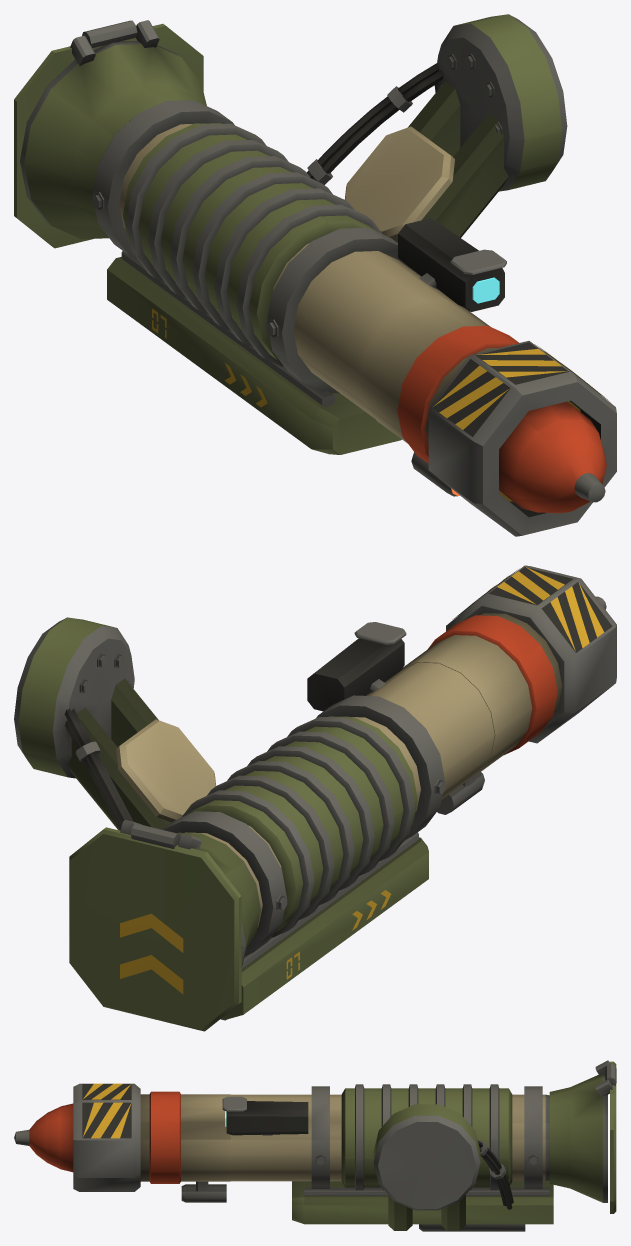
The model's file is rocket-launcher-hull.glb.
3 renders of one model, top to bottom at view 1: azimuth 30°, elevation 25°; view 2: azimuth 150°, elevation 25°; view 3: azimuth 270°, elevation 25°, orthographic. The views are drawn at different scales.
Parts seen in each view (by area): view 1: Recoil, Body, Missile_0, Lid; view 2: Recoil, Body, Lid; view 3: Recoil, Body, Missile_0, Lid.
Boxes of the visible parts, x1,y1,x2,y2 form: Recoil: (20, 20, 616, 536); Body: (107, 14, 567, 454); Missile_0: (499, 401, 606, 513); Lid: (14, 20, 203, 248); Recoil: (120, 565, 616, 967); Body: (14, 617, 428, 1020); Lid: (69, 823, 241, 1031); Recoil: (73, 1060, 612, 1202); Body: (292, 1104, 553, 1231); Missile_0: (14, 1103, 73, 1172); Lid: (605, 1061, 616, 1213).
Size of the model in its own units: 1.24 by 1.03 by 2.95.
